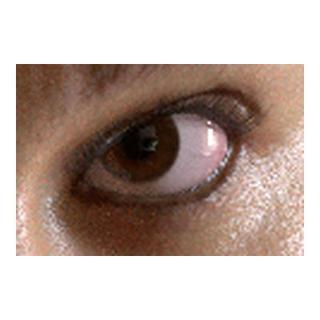pupil: (122, 127, 153, 158)
